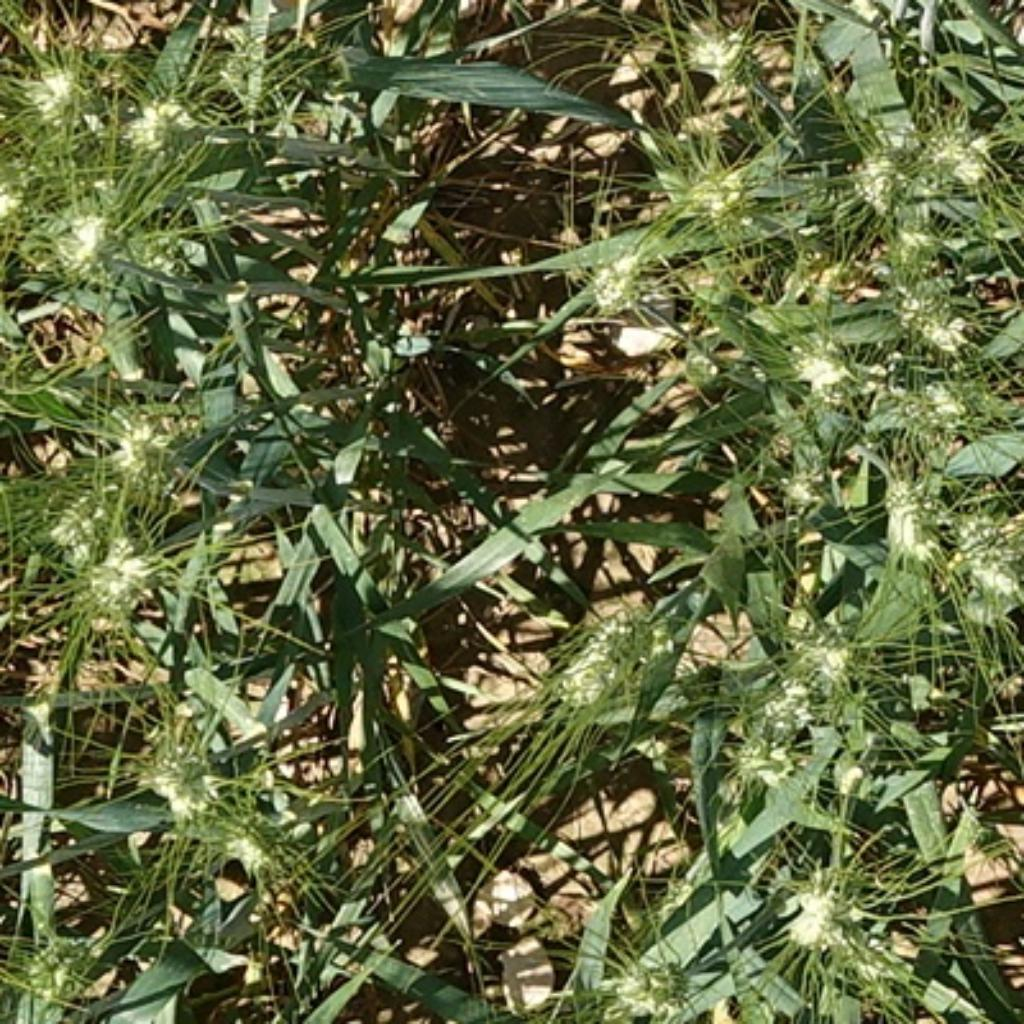0-0: (768, 852, 911, 983), (550, 578, 680, 719), (94, 381, 215, 499), (30, 189, 150, 287), (66, 524, 174, 624), (112, 81, 222, 176), (944, 494, 1024, 622), (133, 706, 227, 811), (655, 143, 762, 230), (596, 939, 702, 1024), (7, 923, 106, 1013), (673, 1, 773, 86), (15, 46, 110, 135), (204, 803, 303, 888), (576, 225, 668, 312), (783, 599, 862, 696), (780, 312, 865, 401), (875, 458, 949, 555), (719, 742, 806, 824), (25, 491, 115, 570), (908, 368, 995, 442), (931, 117, 995, 212), (768, 437, 847, 512), (890, 302, 980, 355), (885, 207, 957, 273), (857, 134, 914, 212), (760, 678, 829, 732)
